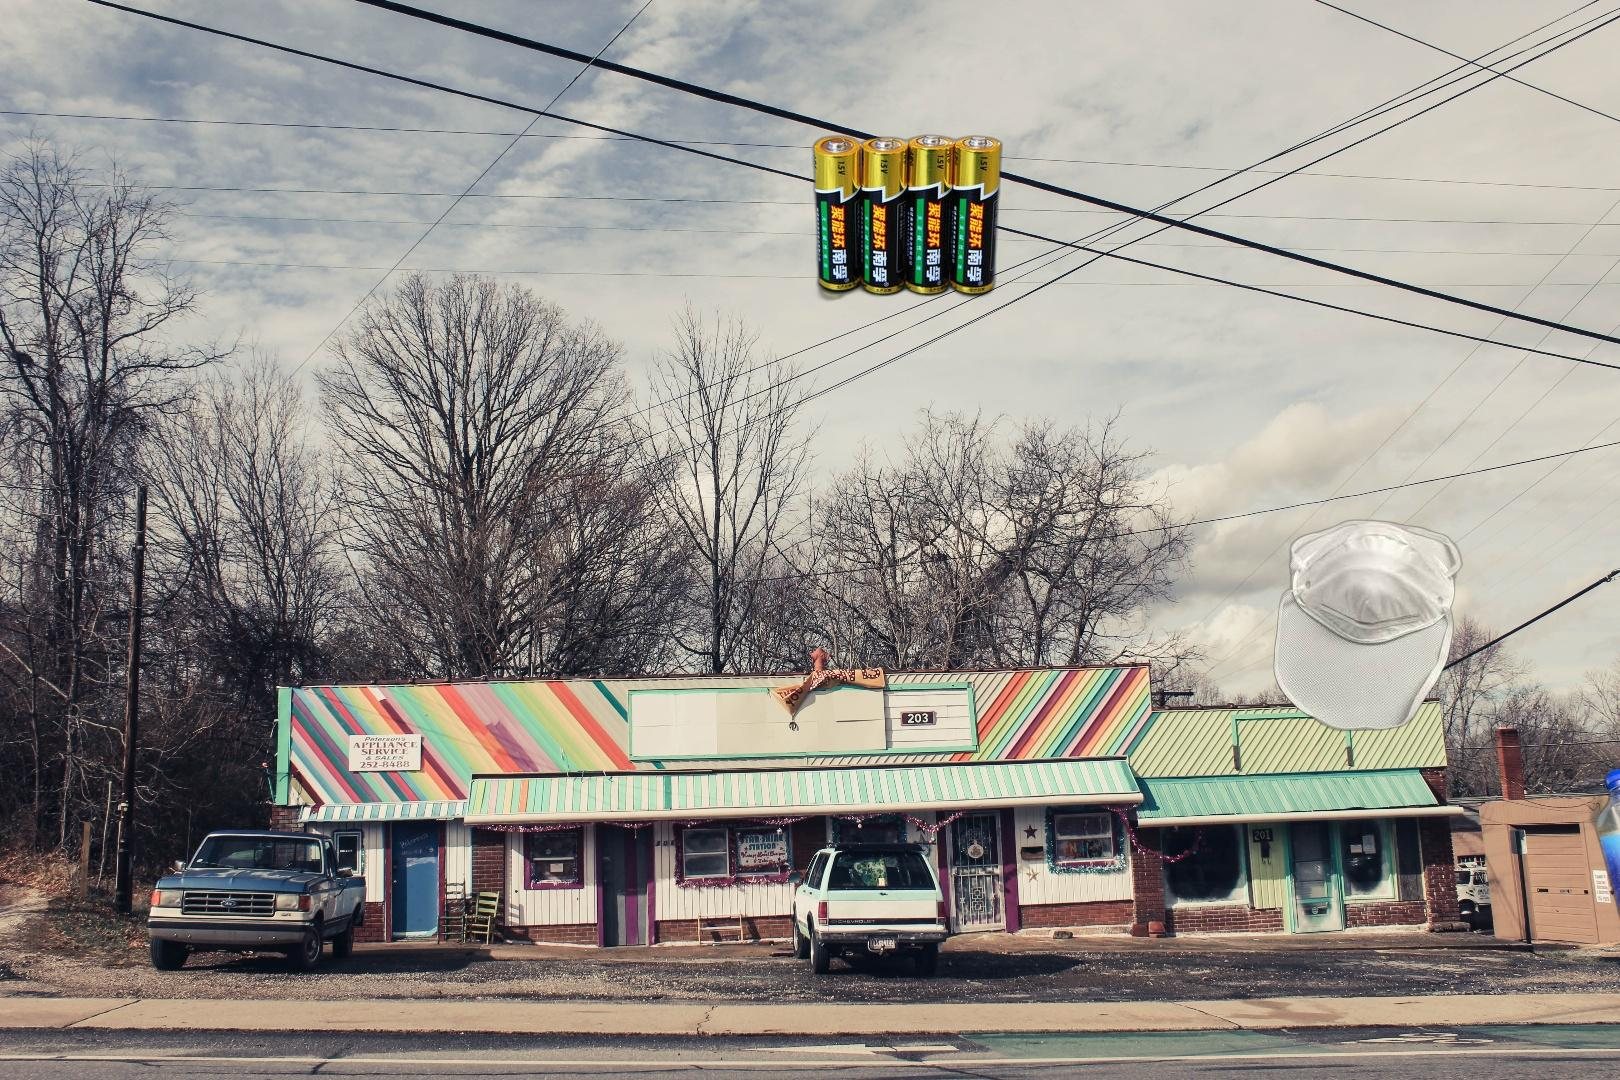battery: (808, 131, 1006, 304)
plastic-bottles: (1587, 761, 1620, 985)
trash: (1270, 517, 1465, 734)
